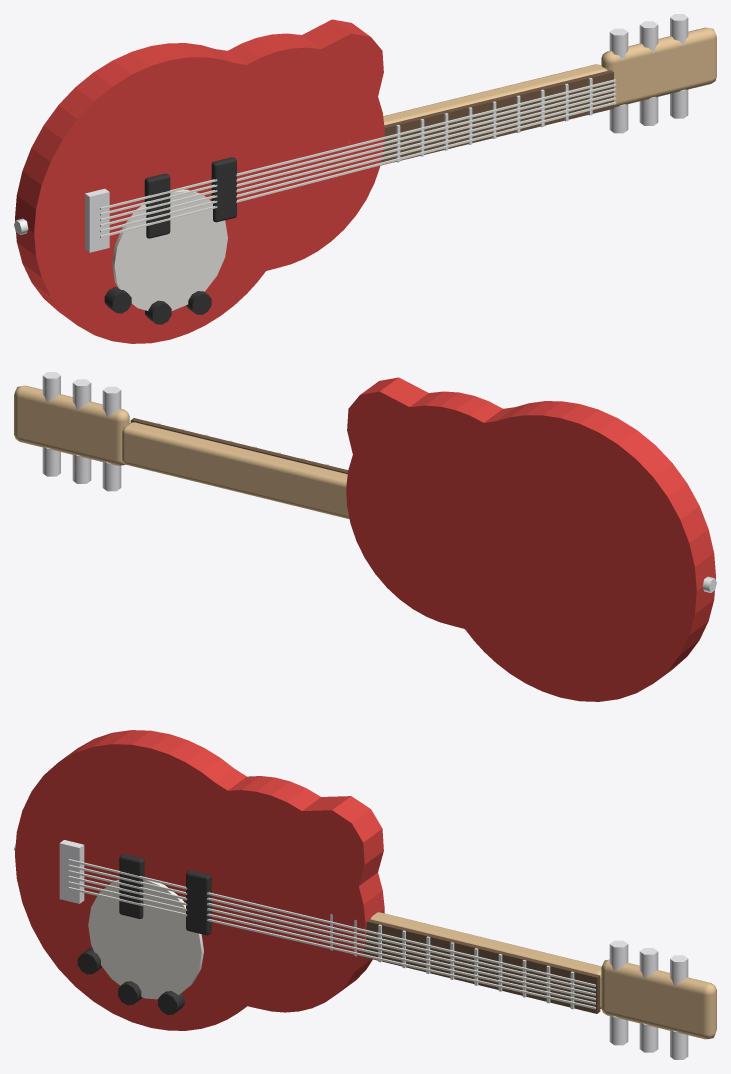
The model's file is guitar_lead.glb.
3 renders of one model, top to bottom at view 1: azimuth 30°, elevation 25°; view 2: azimuth 150°, elevation 25°; view 3: azimuth 330°, elevation 25°, orthographic.
Visible parts, largest first — view 1: guitar_lead_shiny, guitar_lead_std, guitar_lead_metal; view 2: guitar_lead_shiny, guitar_lead_std; view 3: guitar_lead_shiny, guitar_lead_std, guitar_lead_metal.
Part boxes in pixels (bbox=[...]): guitar_lead_shiny: bbox=[15, 19, 384, 343]; guitar_lead_std: bbox=[14, 14, 716, 324]; guitar_lead_metal: bbox=[100, 79, 616, 237]; guitar_lead_shiny: bbox=[346, 377, 715, 701]; guitar_lead_std: bbox=[14, 372, 716, 592]; guitar_lead_shiny: bbox=[15, 730, 384, 1030]; guitar_lead_std: bbox=[14, 840, 716, 1059]; guitar_lead_metal: bbox=[68, 859, 595, 1009].
Size of the model in its own units: 1.04 by 0.3999 by 0.07.
